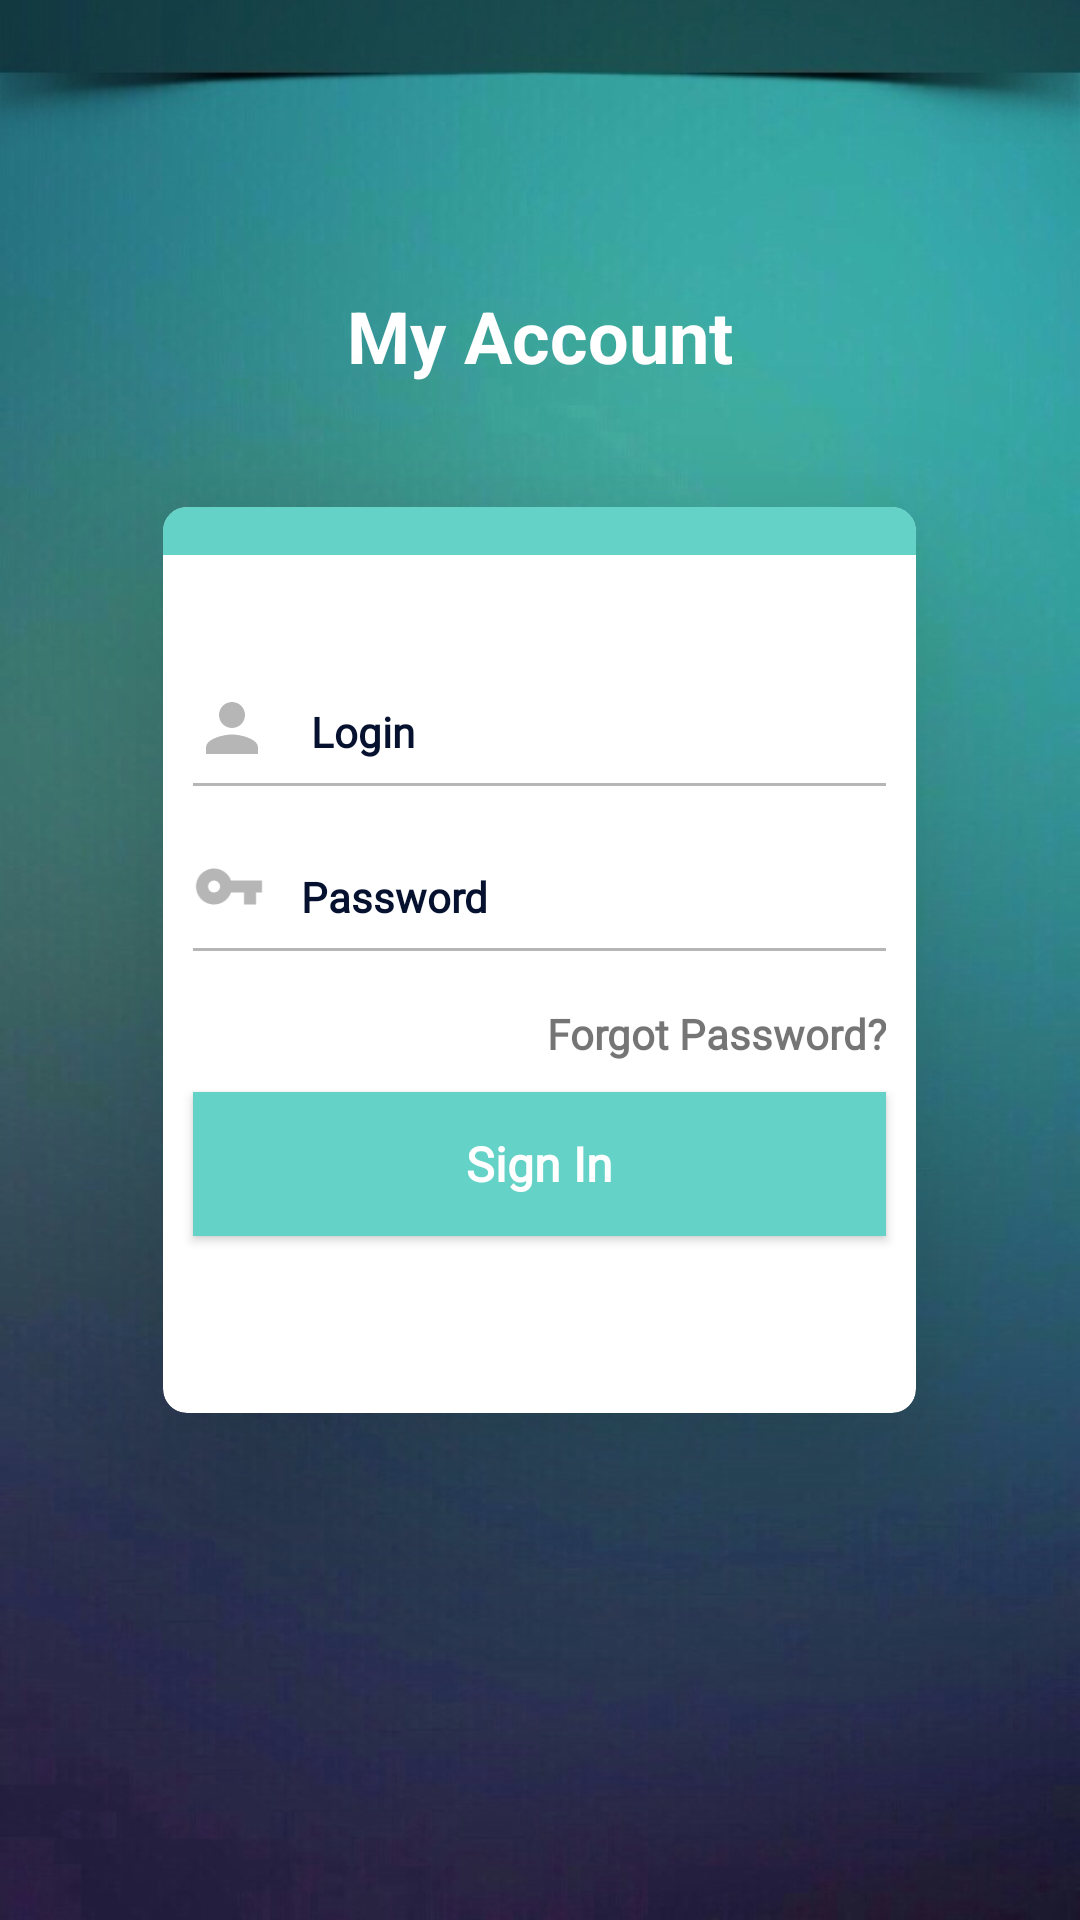

Screen size 1080px x 1920px. Icon name, then its center in pixels as [x,y]:
vpn key: [229,886]
